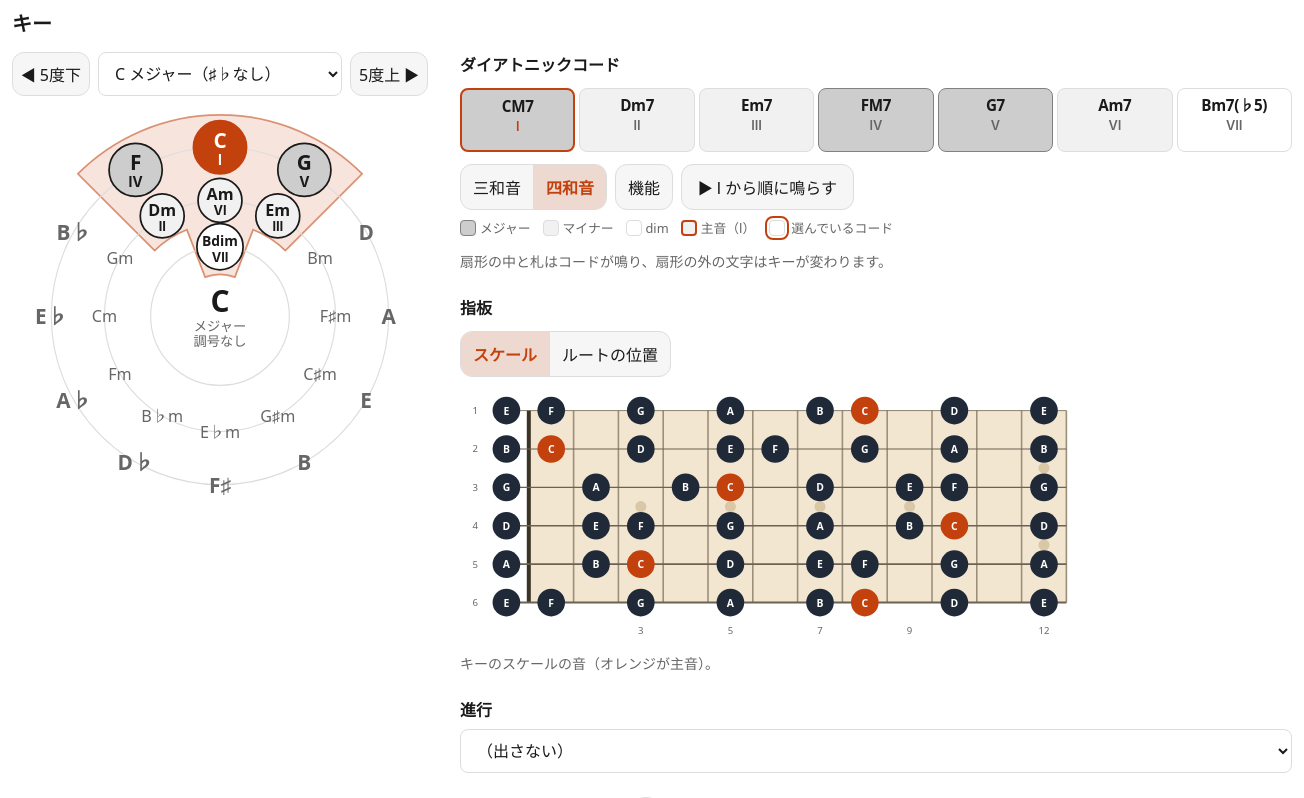
Test: キーの画面 › 5 度上へ進むと、変わった音（F → F♯）を知らせ、URL も変わる
What coordinates should you click on to do the following:
click the button "5度上 ▶"
I would click on:
 (389, 74)
Its box is [350,52,428,96].
(page scrolled)
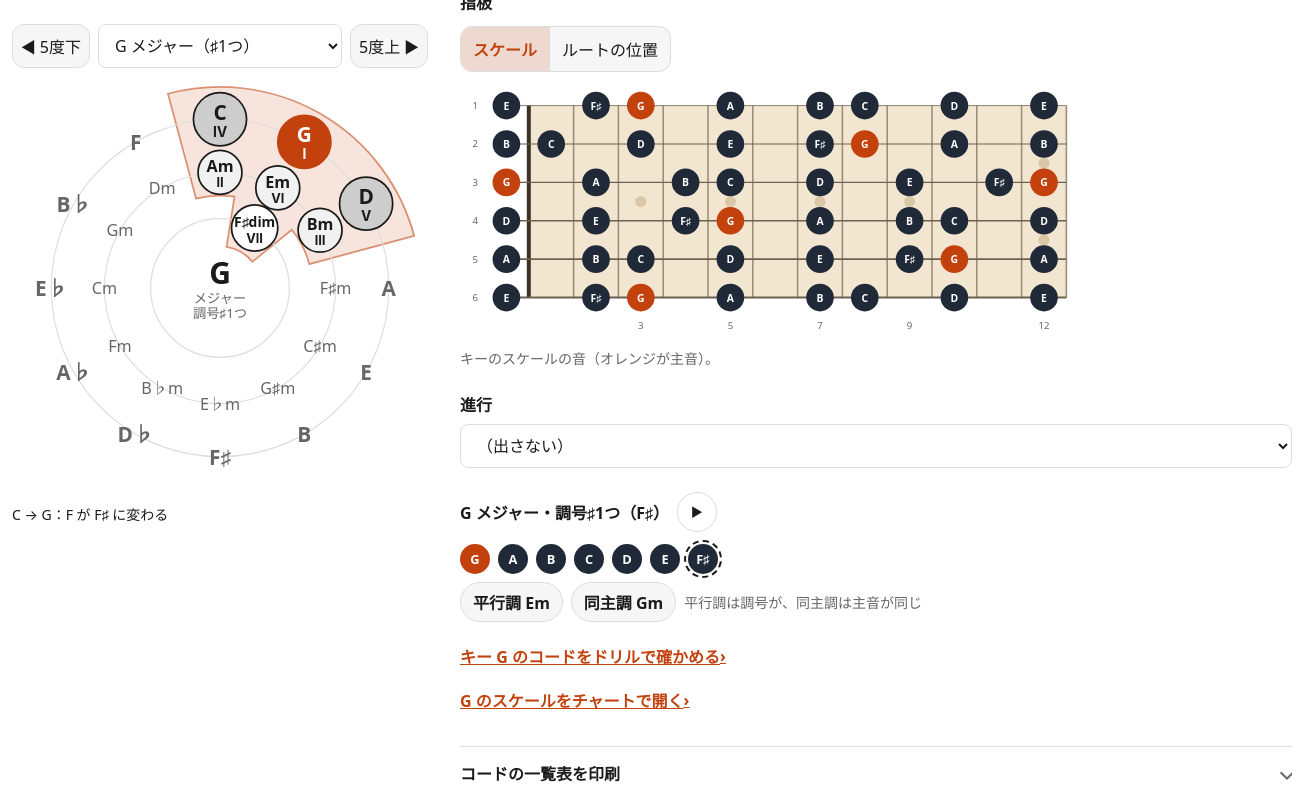
Check: the message with class "kv-change" shows "F が F♯ に変わる", box [66,505,168,524]
Check: the text with class "changed" reads "F♯", box [696,550,710,568]
